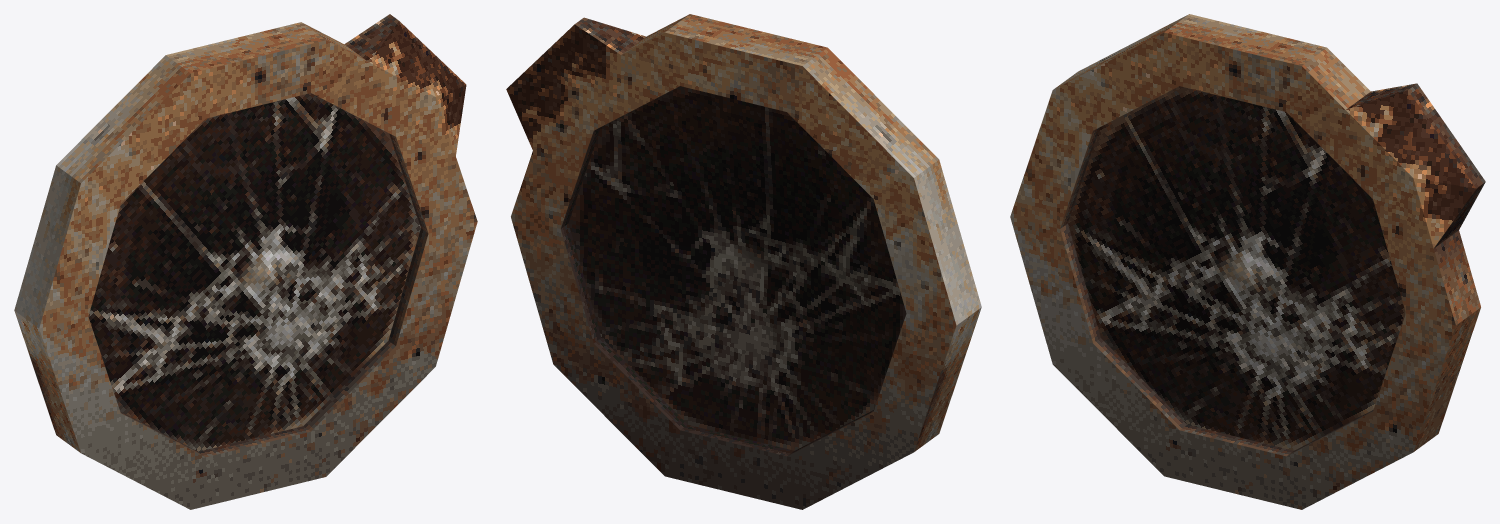
The model's file is washing-machine-door_dirty.glb.
3 renders of one model, left to right at view 1: azimuth 30°, elevation 25°; view 2: azimuth 150°, elevation 25°; view 3: azimuth 330°, elevation 25°, orthographic.
Visible parts, largest first — view 1: washing-machine-door_dirty-col; view 2: washing-machine-door_dirty-col; view 3: washing-machine-door_dirty-col.
Part boxes in pixels (bbox=[...]): washing-machine-door_dirty-col: bbox=[14, 14, 477, 509]; washing-machine-door_dirty-col: bbox=[506, 14, 981, 509]; washing-machine-door_dirty-col: bbox=[1010, 14, 1485, 509].
Bounding box in the file's own units: 0.5718 × 0.5385 × 0.0556.
1 material, 1 textured.
